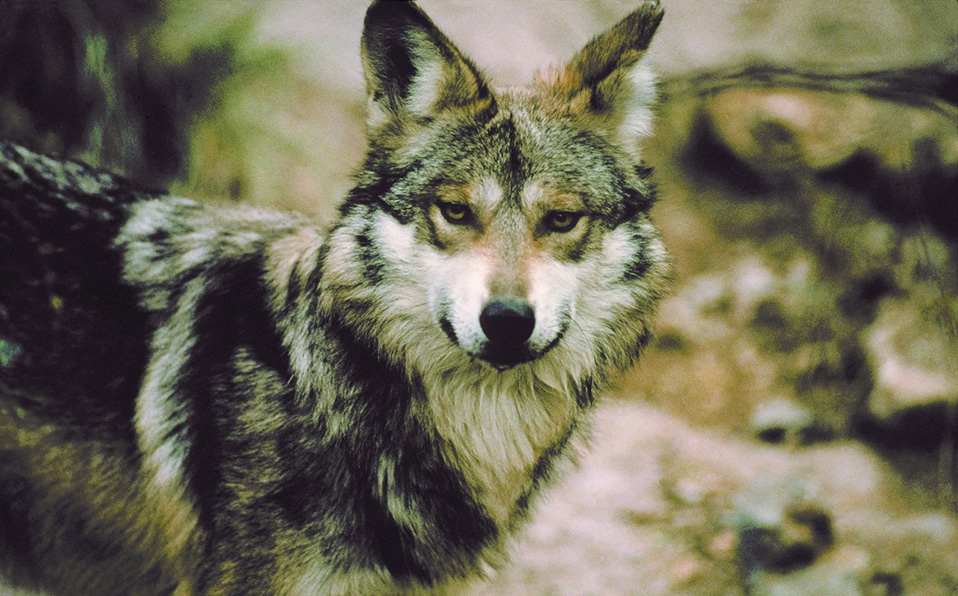Lobo: (95, 1, 683, 554)
